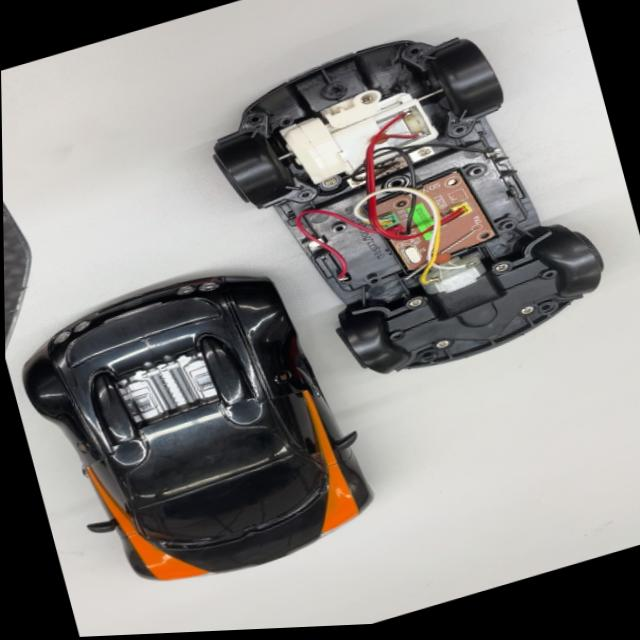Chassis: (222, 0, 624, 414)
motor_cover: (325, 222, 617, 394)
vehicle_body: (4, 243, 389, 623)
